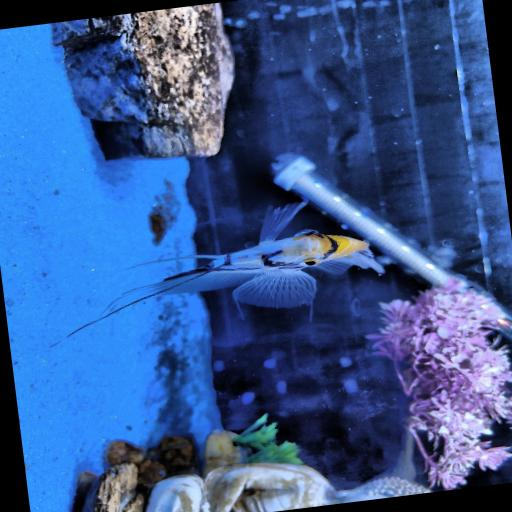Fish: (68, 202, 383, 336)
